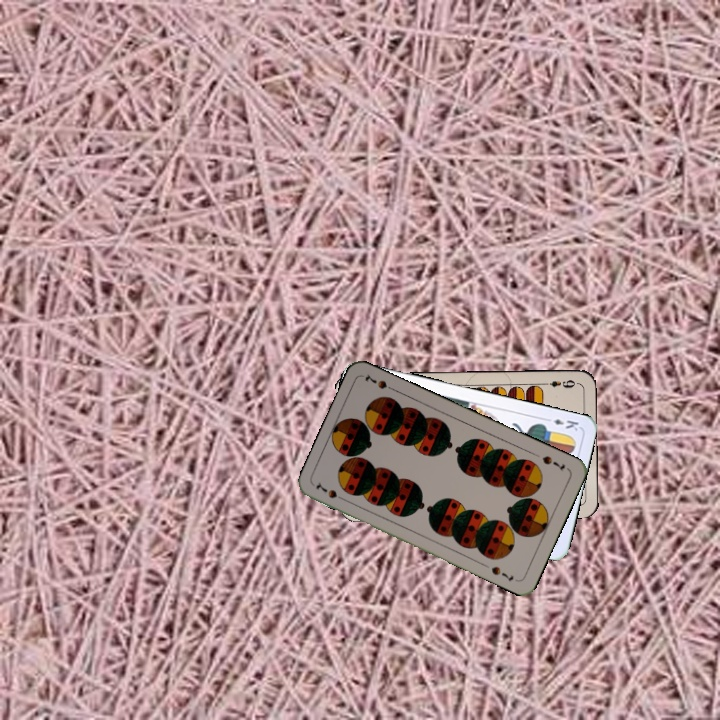E9: (539, 376, 577, 391)
EK: (541, 414, 581, 433)
S7: (312, 478, 349, 504), (538, 452, 568, 474)
